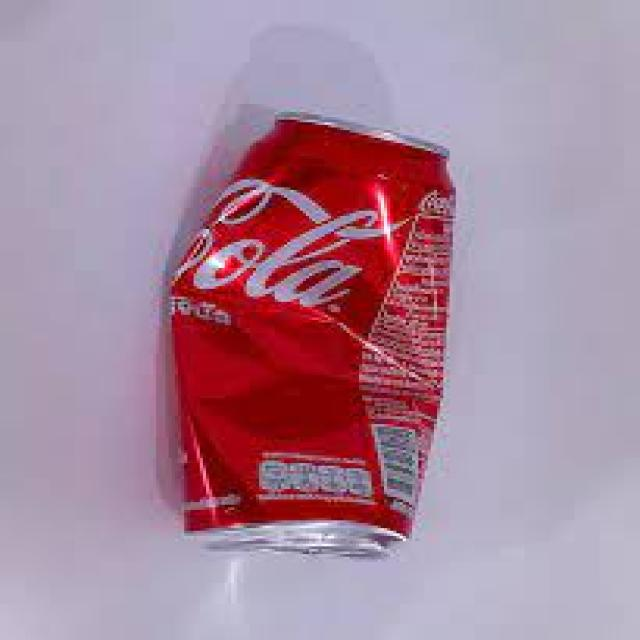aluminum_can: (172, 114, 450, 555)
